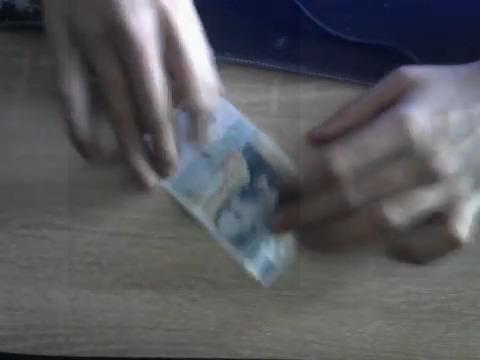20leva: (68, 0, 300, 290)
